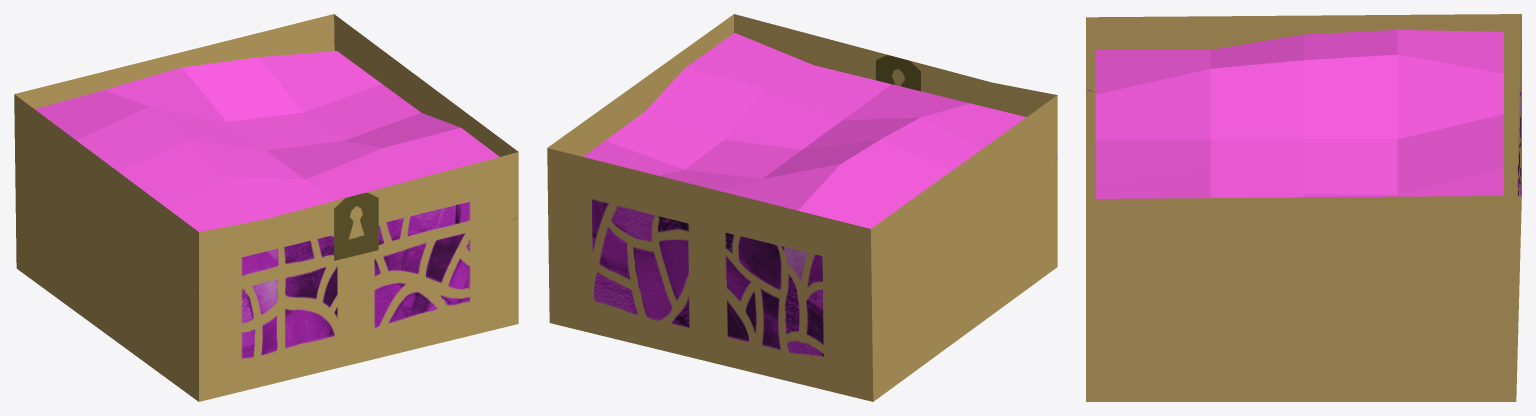
Rendered from chestBottom4.glb.
The picture shows the model from 3 angles, left to right: view 1: azimuth 30°, elevation 25°; view 2: azimuth 150°, elevation 25°; view 3: azimuth 270°, elevation 25°; orthographic projection. The views are drawn at different scales.
Parts seen in each view (by area): view 1: Cube; view 2: Cube; view 3: Cube.
Boxes of the visible parts, x1,y1,x2,y2 form: Cube: (14,14,518,401); Cube: (547,14,1057,401); Cube: (1086,14,1521,401).
Bounding box in the file's own units: 1 × 0.5329 × 1.
2 materials, 1 textured.
